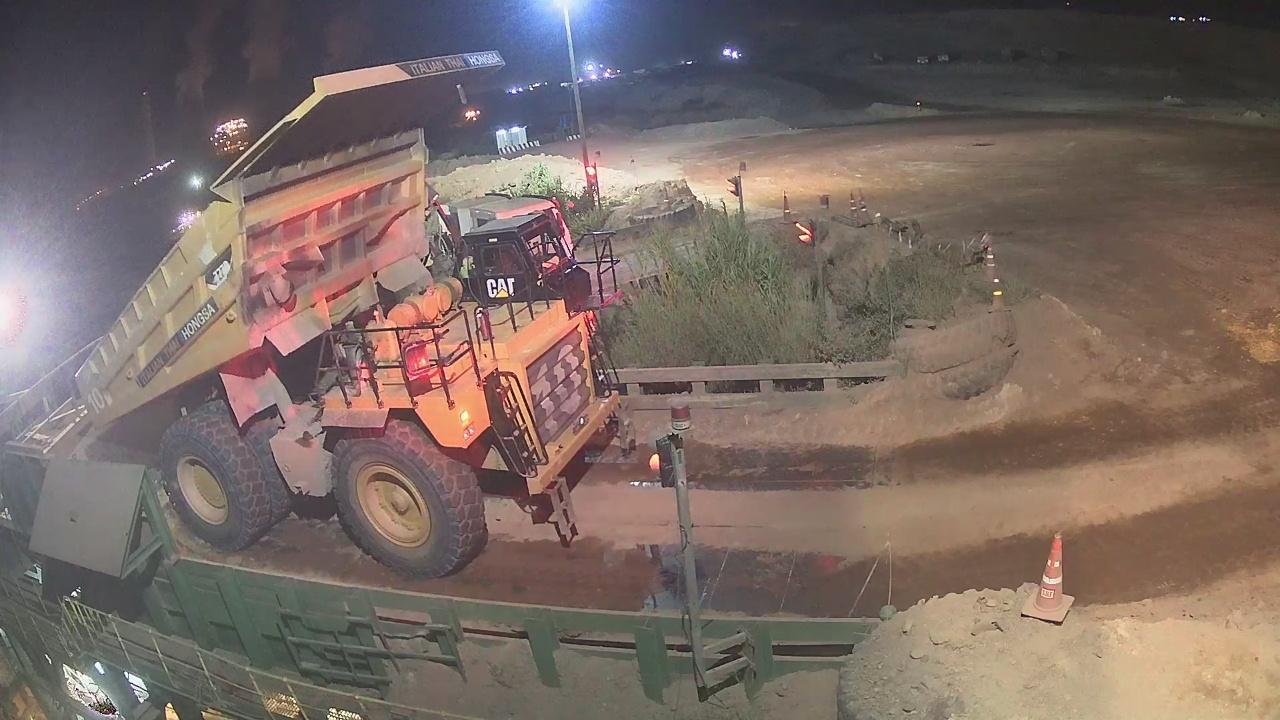company: (132, 297, 221, 391)
dumping_soil: (74, 36, 647, 579)
front_number: (522, 323, 604, 450)
tail_number: (78, 382, 119, 417)
truck_size: (199, 244, 239, 294)
